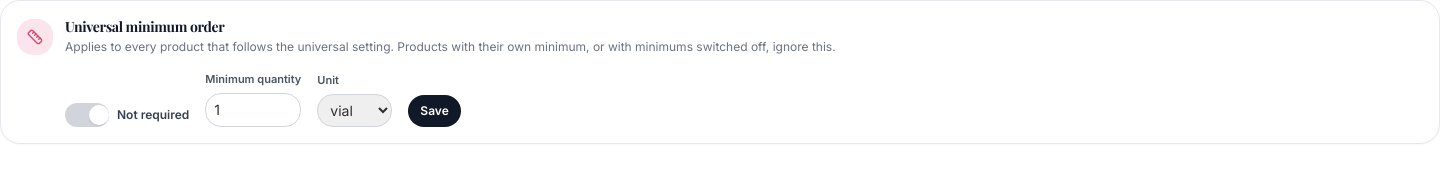
UniversalMinimumOrderPanel › surfaces a failed save instead of looking like it worked
What coordinates should you click on to do the following:
click the button "Save"
I would click on:
 (434, 111)
Its box is [408,95,461,127].
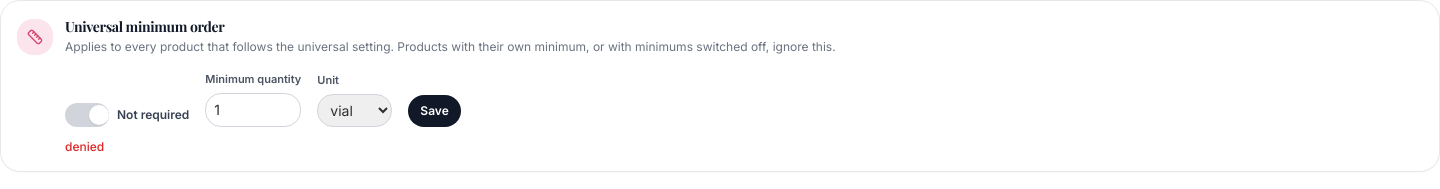
Expected: the message reads "denied", [65,139,104,154]
